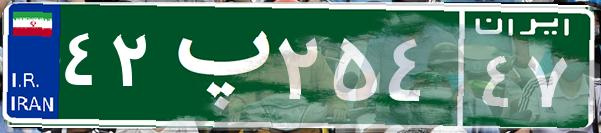2: (273, 28, 330, 110), (110, 28, 158, 105)
4: (385, 28, 445, 110), (57, 26, 110, 107), (475, 38, 525, 113)
5: (330, 28, 385, 110)
7: (525, 38, 570, 115)
پ: (158, 15, 273, 115)
